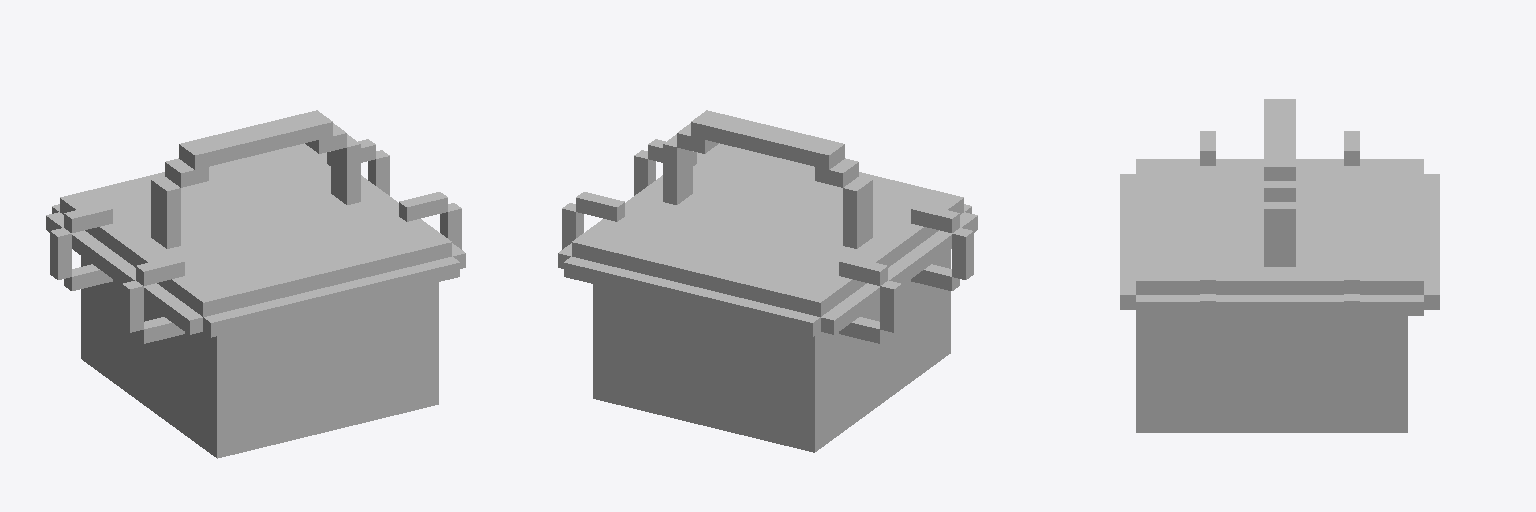
The model's file is chest.obj.
3 views of the same model, side by side, from view 1: azimuth 30°, elevation 25°; view 2: azimuth 150°, elevation 25°; view 3: azimuth 270°, elevation 25° (orthographic).
Visible parts, largest first — view 1: object 1; view 2: object 1; view 3: object 1.
Boxes of the visible parts, x1,y1,x2,y2 form: object 1: [46, 110, 465, 458]; object 1: [558, 110, 977, 452]; object 1: [1120, 99, 1439, 432].
Size of the model in its own units: 2.4 by 1.7 by 2.